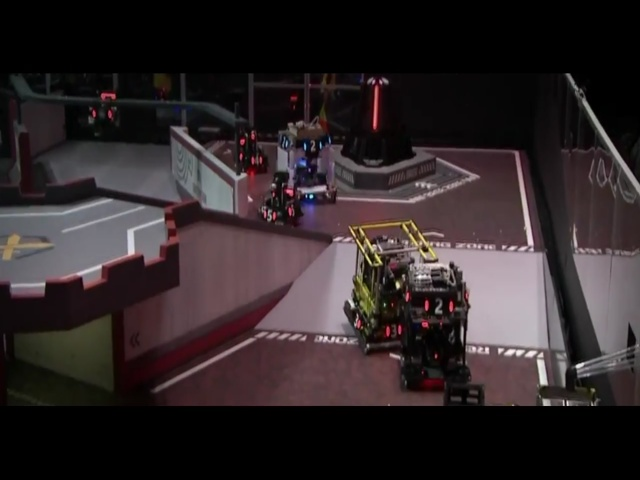plate: (152, 324, 197, 359), (220, 313, 242, 348), (418, 331, 450, 353), (288, 151, 323, 171), (188, 202, 214, 223), (162, 196, 183, 220), (366, 321, 378, 353), (254, 150, 269, 171), (344, 120, 357, 141)
